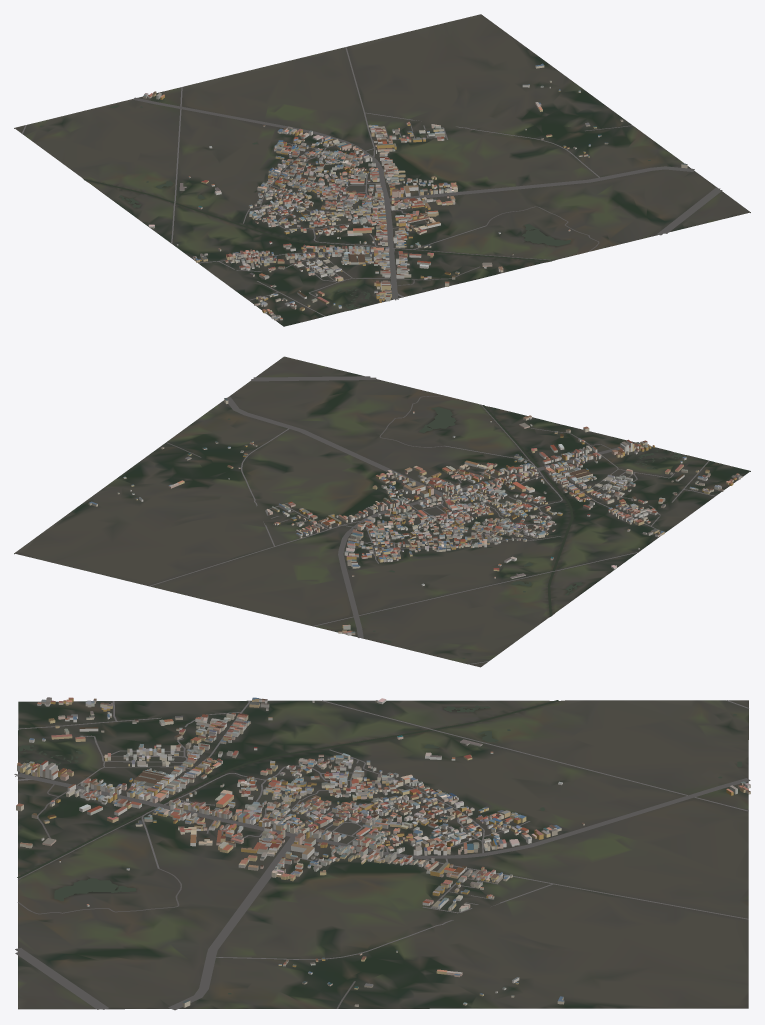
3 views of the same model, one above another, from view 1: azimuth 30°, elevation 25°; view 2: azimuth 150°, elevation 25°; view 3: azimuth 270°, elevation 25° (orthographic). The views are drawn at different scales.
Parts seen in each view (by area): view 1: ground, buildings, roads, water; view 2: ground, buildings, roads, water; view 3: ground, buildings, roads, water.
Part boxes in pixels (left/top/right/bottom): ground: left=14, top=14, right=750, bottom=326; buildings: left=143, top=63, right=687, bottom=320; roads: left=21, top=47, right=722, bottom=320; water: left=40, top=105, right=650, bottom=309; ground: left=14, top=356, right=750, bottom=667; buildings: left=88, top=398, right=742, bottom=635; roads: left=149, top=376, right=715, bottom=664; water: left=227, top=405, right=682, bottom=658; ground: left=18, top=700, right=748, bottom=1009; buildings: left=16, top=697, right=750, bottom=1007; roads: left=14, top=700, right=750, bottom=1010; water: left=17, top=700, right=742, bottom=994.
Bounding box in the file's own units: 1410 × 29.79 × 1414.
